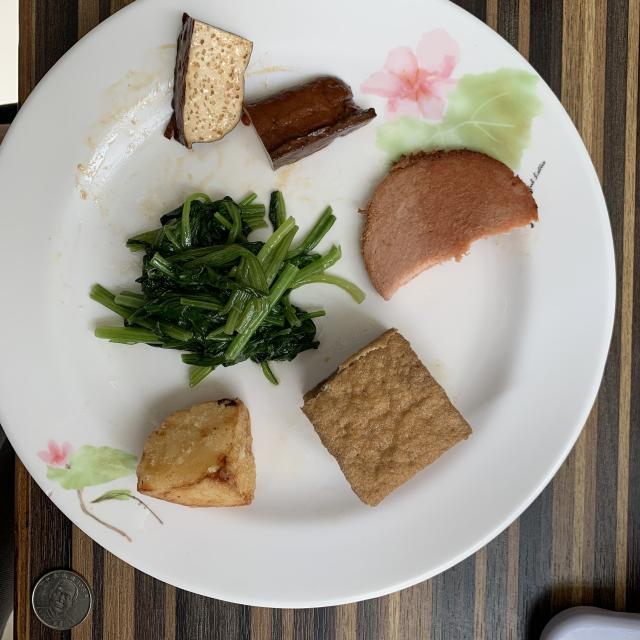Spam: (361, 149, 538, 300)
coin: (32, 570, 91, 630)
egg tofu: (301, 329, 471, 506)
firm tofu: (165, 14, 375, 169)
fried potato: (136, 399, 256, 508)
mustard greens: (91, 191, 365, 386)
